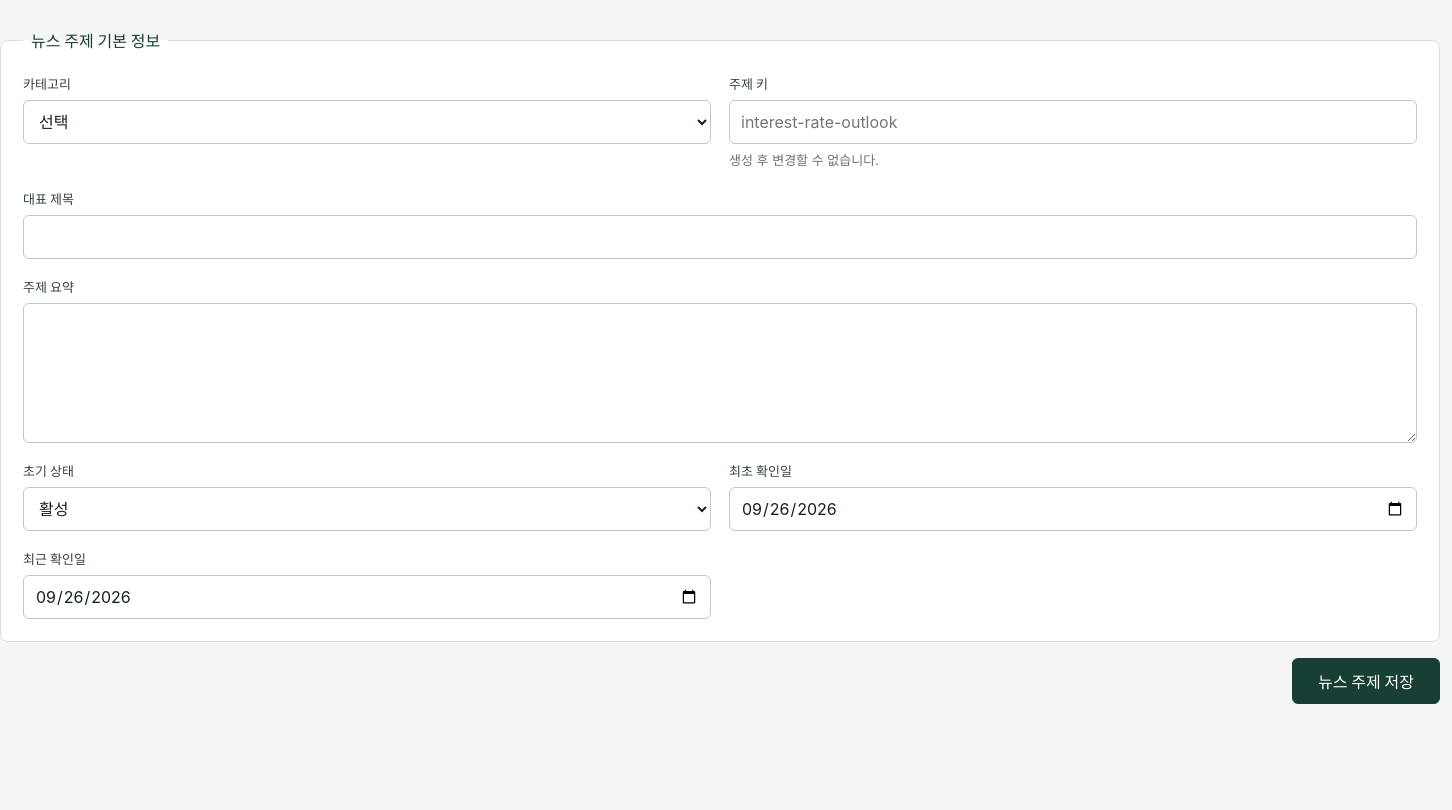
Test case: NewsTopicForm › shows required field errors near fields
Clear the date field labelled "최초 확인일" at (1073, 508), box [729,486,1417,530]
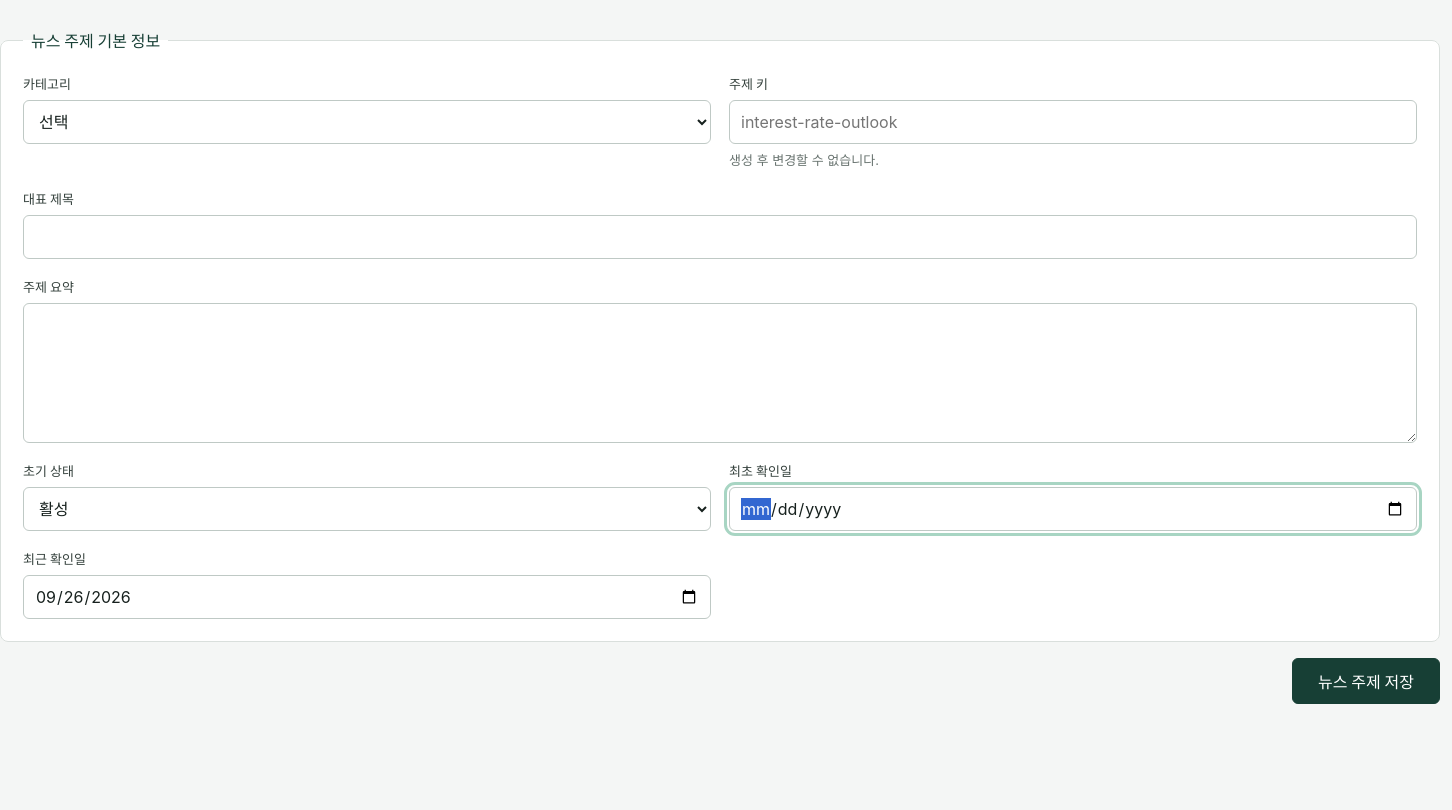
Clear the date field labelled "최근 확인일" at (367, 596), box [23,574,711,618]
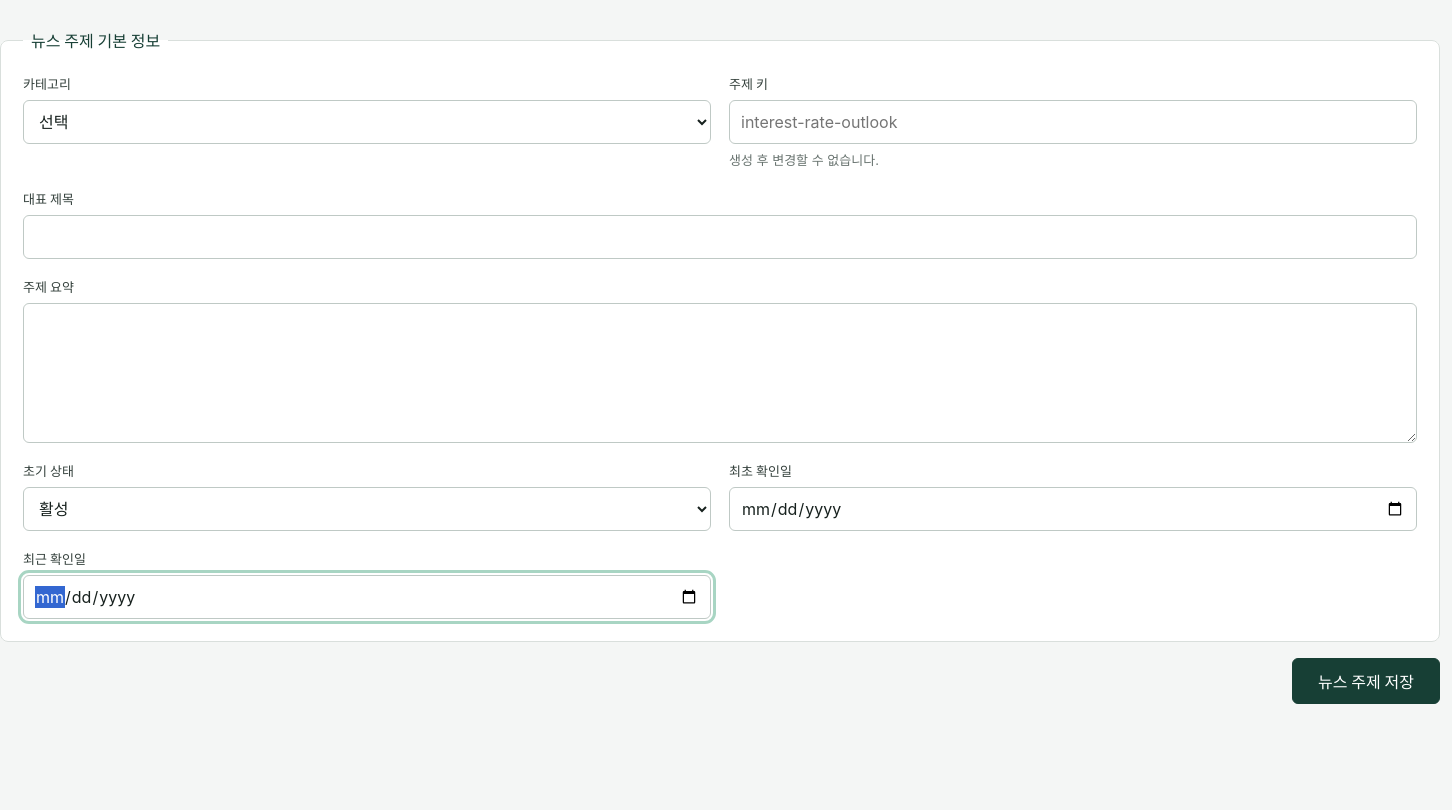
Click the button "뉴스 주제 저장" at (1366, 680), box [1292,658,1440,704]
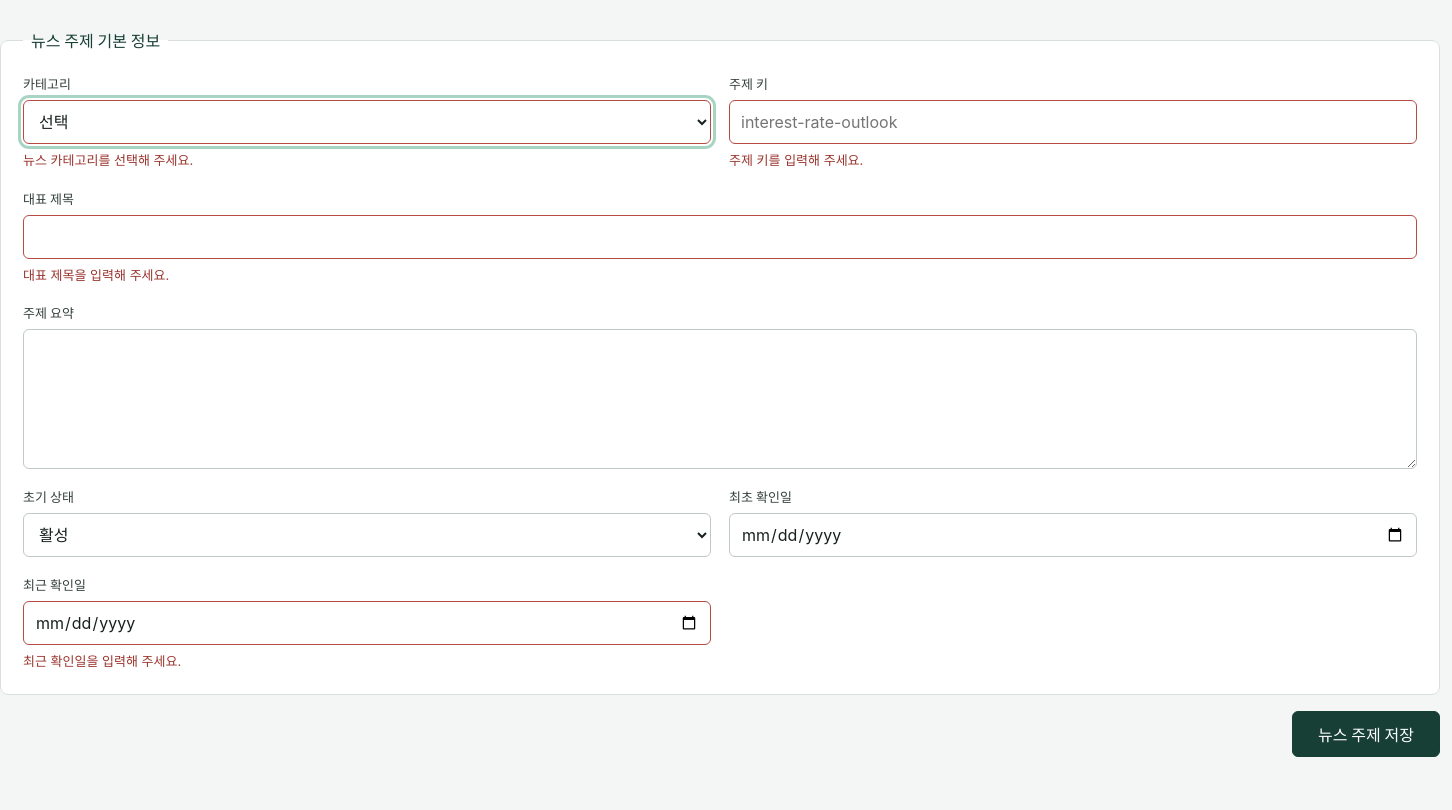
Check: the text "뉴스 카테고리를 선택해 주세요." is shown, box [23,152,193,168]
Check: the text "대표 제목을 입력해 주세요." is shown, box [23,266,169,282]
